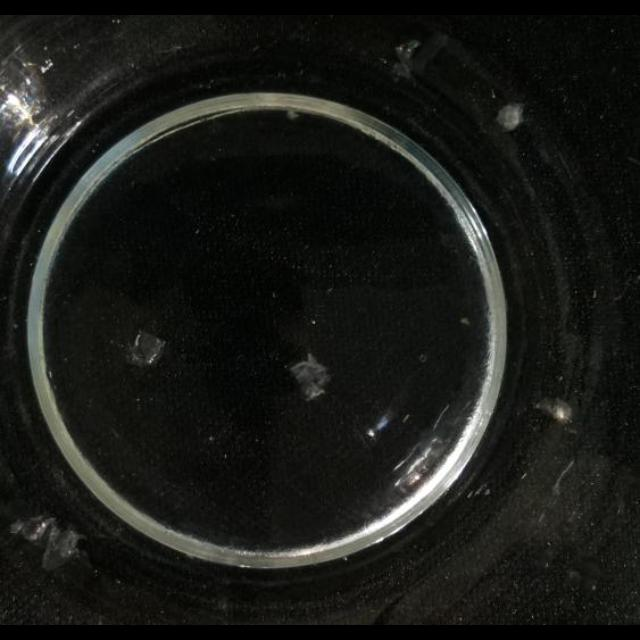Fibre: (8, 514, 88, 574), (390, 434, 448, 492), (288, 356, 332, 402), (10, 516, 54, 544), (535, 396, 573, 424), (393, 40, 421, 74), (286, 109, 300, 121)
Film: (126, 329, 166, 366)
microbeads: (496, 104, 524, 132), (467, 483, 489, 499), (403, 414, 411, 424), (490, 89, 496, 99), (272, 290, 278, 300)
